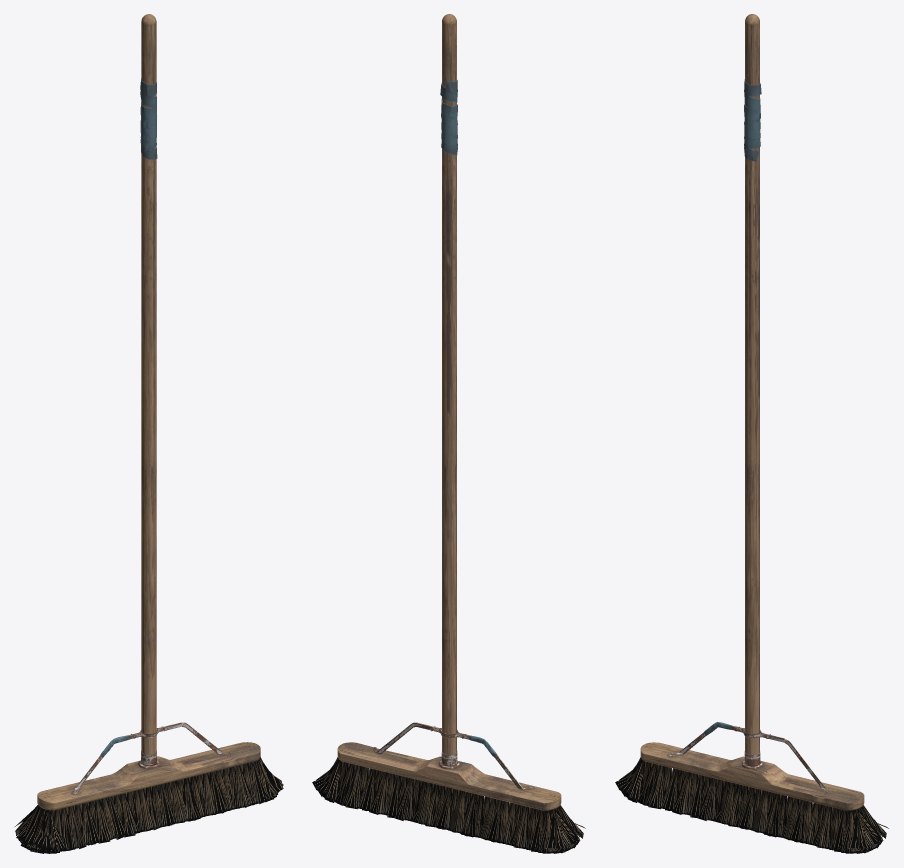
File: wooden-broom.glb
The picture shows the model from 3 angles, left to right: view 1: azimuth 30°, elevation 25°; view 2: azimuth 150°, elevation 25°; view 3: azimuth 330°, elevation 25°; orthographic projection.
Visible parts, largest first — view 1: wooden_broom; view 2: wooden_broom; view 3: wooden_broom.
Boxes of the visible parts, left/top/right/bottom form: wooden_broom: left=15, top=14, right=283, bottom=853; wooden_broom: left=312, top=14, right=585, bottom=853; wooden_broom: left=615, top=14, right=888, bottom=853.
Size of the model in its own units: 0.4903 by 1.45 by 0.1125.
2 materials, 2 textured.
